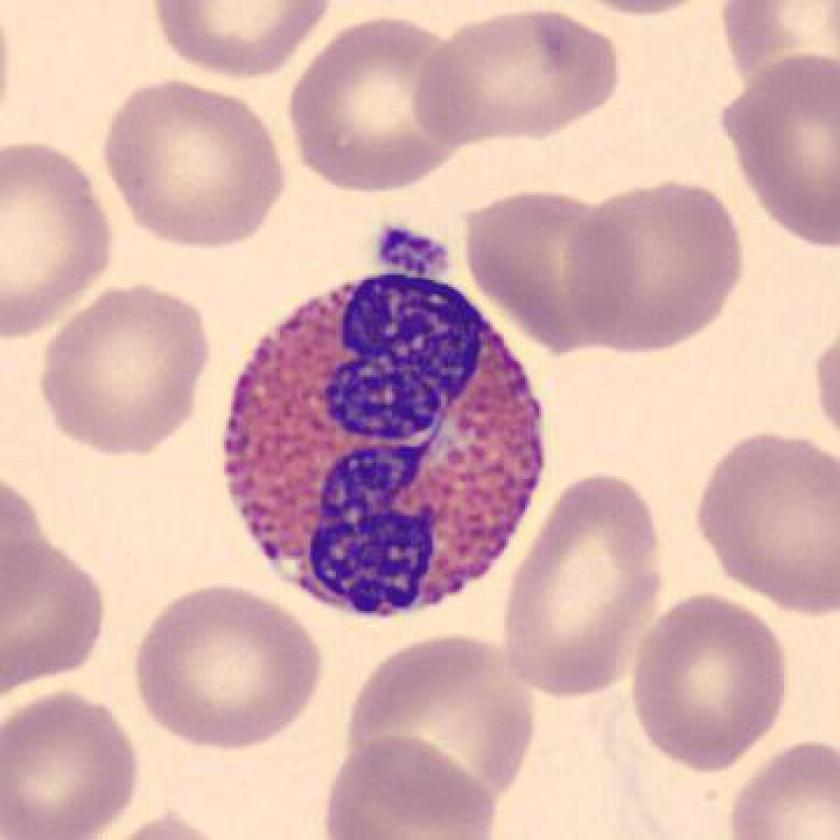eosinophil: (216, 272, 573, 630)
